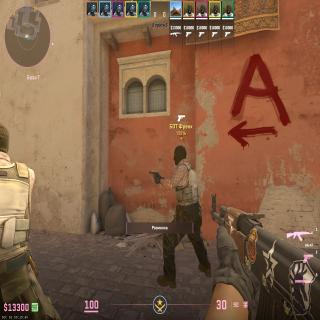T-Body: (0, 122, 36, 320), (169, 144, 202, 286)
T-Head: (0, 121, 11, 154), (174, 145, 186, 164)
